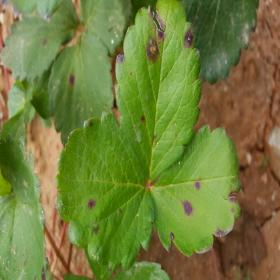Leaf Spot: (114, 0, 203, 184), (54, 110, 154, 273), (149, 124, 245, 257), (0, 133, 52, 279), (48, 32, 113, 146), (0, 14, 62, 81)
